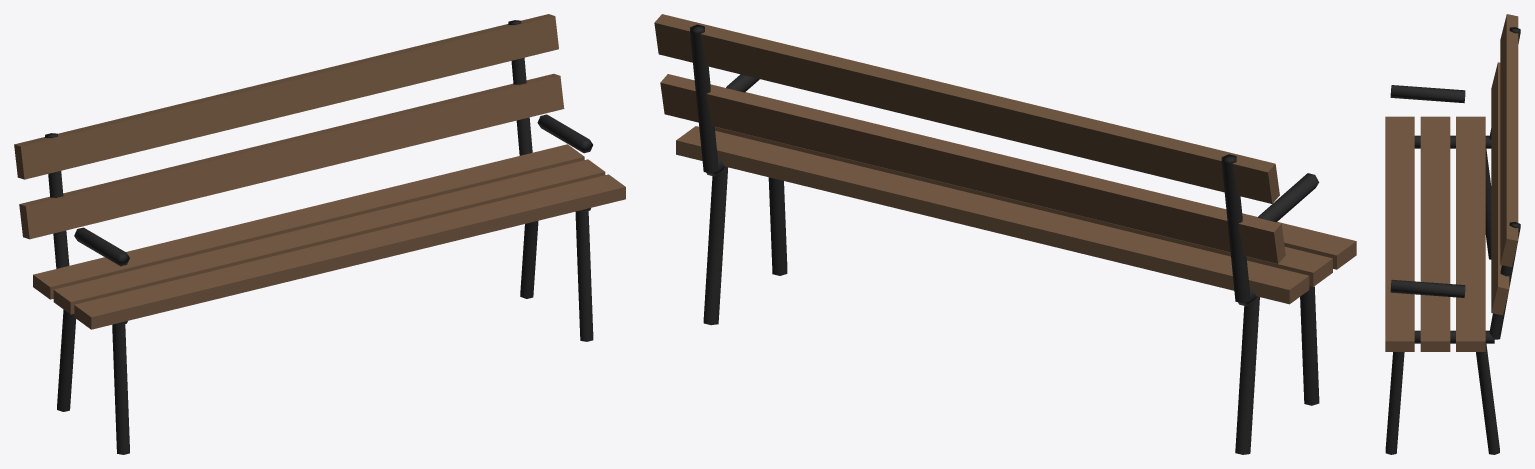
File: street.furniture.seat_b.glb
The picture shows the model from 3 angles, left to right: view 1: azimuth 30°, elevation 25°; view 2: azimuth 150°, elevation 25°; view 3: azimuth 270°, elevation 25°; orthographic projection. The views are drawn at different scales.
Parts seen in each view (by area): view 1: main__concrete_754, main__galv_754, main__galv_222; view 2: main__concrete_754, main__galv_754, main__galv_222; view 3: main__concrete_754, main__galv_222, main__galv_754.
Boxes of the visible parts, x1,y1,x2,y2 form: main__concrete_754: (19, 73, 625, 329); main__galv_754: (14, 14, 558, 179); main__galv_222: (45, 20, 593, 454); main__concrete_754: (660, 74, 1356, 304); main__galv_754: (654, 14, 1279, 203); main__galv_222: (689, 24, 1319, 454); main__concrete_754: (1385, 62, 1509, 351); main__galv_222: (1385, 27, 1520, 454); main__galv_754: (1500, 14, 1518, 267).
Size of the model in its own units: 1.8 by 0.8554 by 0.4588.
